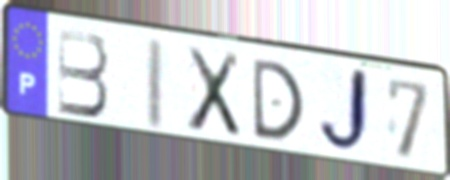7: (384, 75, 432, 163)
B: (55, 26, 112, 120)
D: (249, 56, 307, 143)
I: (143, 35, 167, 134)
J: (315, 64, 373, 159)
X: (184, 44, 243, 141)
